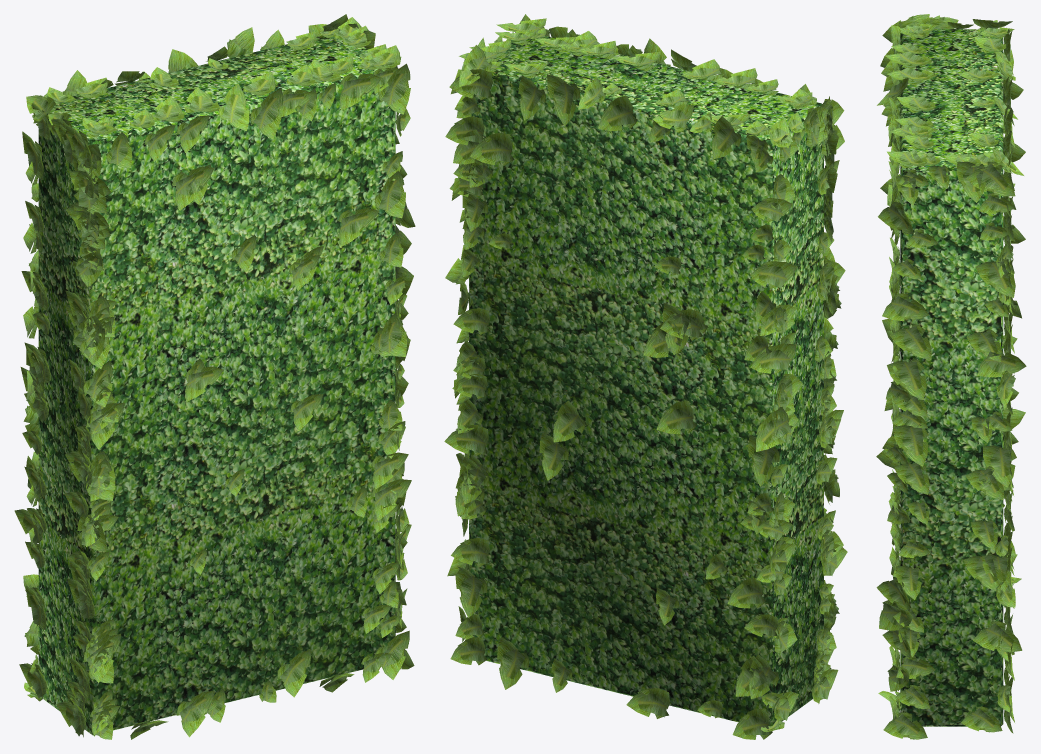
Rendered from bush.glb.
The picture shows the model from 3 angles, left to right: view 1: azimuth 30°, elevation 25°; view 2: azimuth 150°, elevation 25°; view 3: azimuth 270°, elevation 25°; orthographic projection. The views are drawn at different scales.
Parts seen in each view (by area): view 1: Bush Boxwood-Wall-R40427-00 formdecor N190218; view 2: Bush Boxwood-Wall-R40427-00 formdecor N190218; view 3: Bush Boxwood-Wall-R40427-00 formdecor N190218.
Part boxes in pixels (x1,y1,x2,y2): Bush Boxwood-Wall-R40427-00 formdecor N190218: (14,14,415,739); Bush Boxwood-Wall-R40427-00 formdecor N190218: (444,14,847,739); Bush Boxwood-Wall-R40427-00 formdecor N190218: (876,14,1026,739).
Size of the model in its own units: 150 by 261 by 59.8.
Materials: 2 (2 with a texture image).
